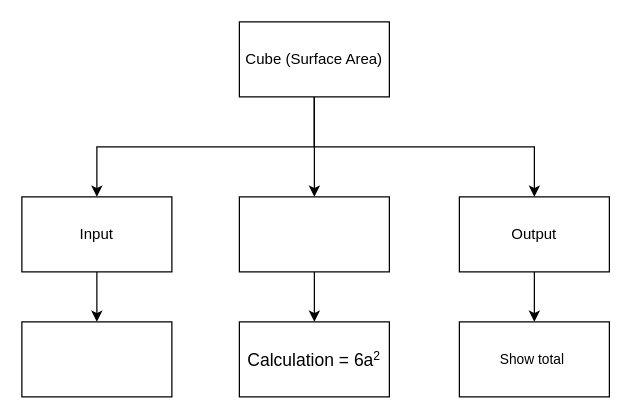
Image size: 631x419. Some labels were removed from this diagram. The box of each missing label's shape, as (x1, y1, x2, y2) in pixels:
Get Number: (21, 321, 172, 397)
Process: (238, 196, 389, 272)
